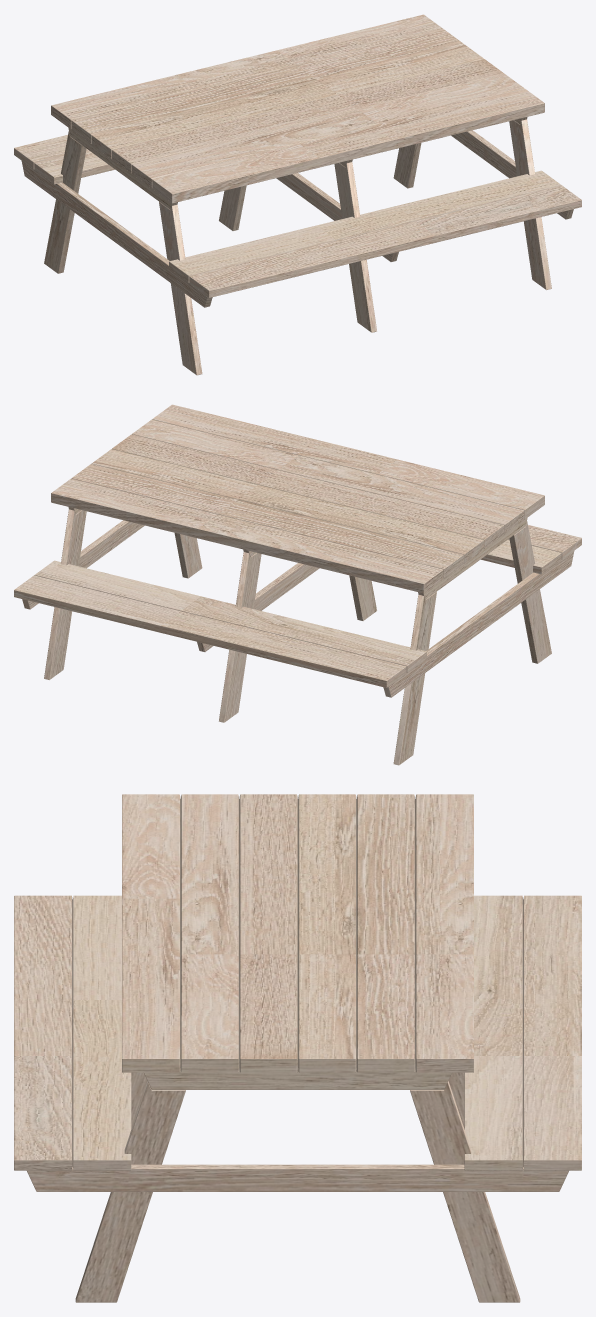
File: MyTable.dae
3 views of the same model, one above another, from view 1: azimuth 30°, elevation 25°; view 2: azimuth 150°, elevation 25°; view 3: azimuth 270°, elevation 25° (orthographic). The views are drawn at different scales.
Parts seen in each view (by area): view 1: Rectangle073; view 2: Rectangle073; view 3: Rectangle073.
Boxes of the visible parts, x1,y1,x2,y2 form: Rectangle073: (14,14,581,375); Rectangle073: (14,404,581,765); Rectangle073: (14,794,581,1302).
Bounding box in the file's own units: 32 × 29.04 × 14.12.
1 material, 1 textured.
